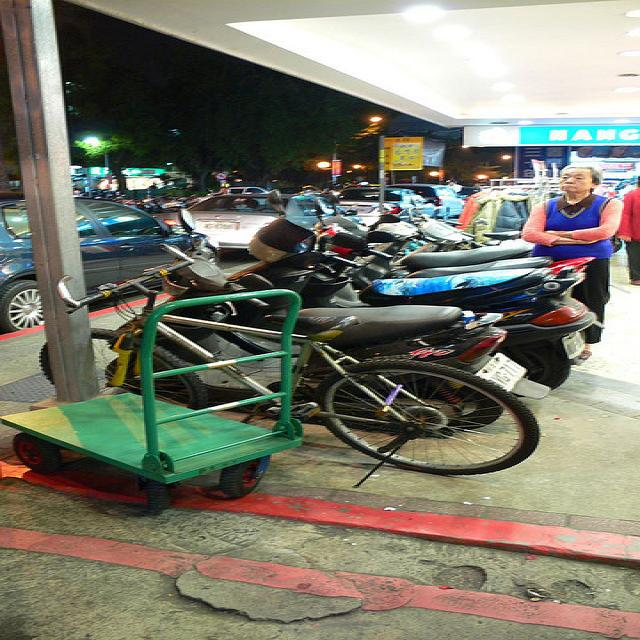motor: (231, 240, 606, 387), (299, 301, 557, 402), (316, 231, 596, 274), (345, 230, 535, 287), (396, 212, 491, 262)
